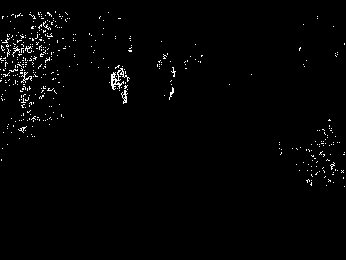person: (109, 64, 130, 105)
